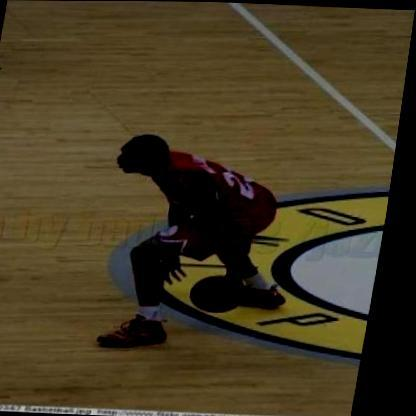basketball: (192, 267, 264, 322)
